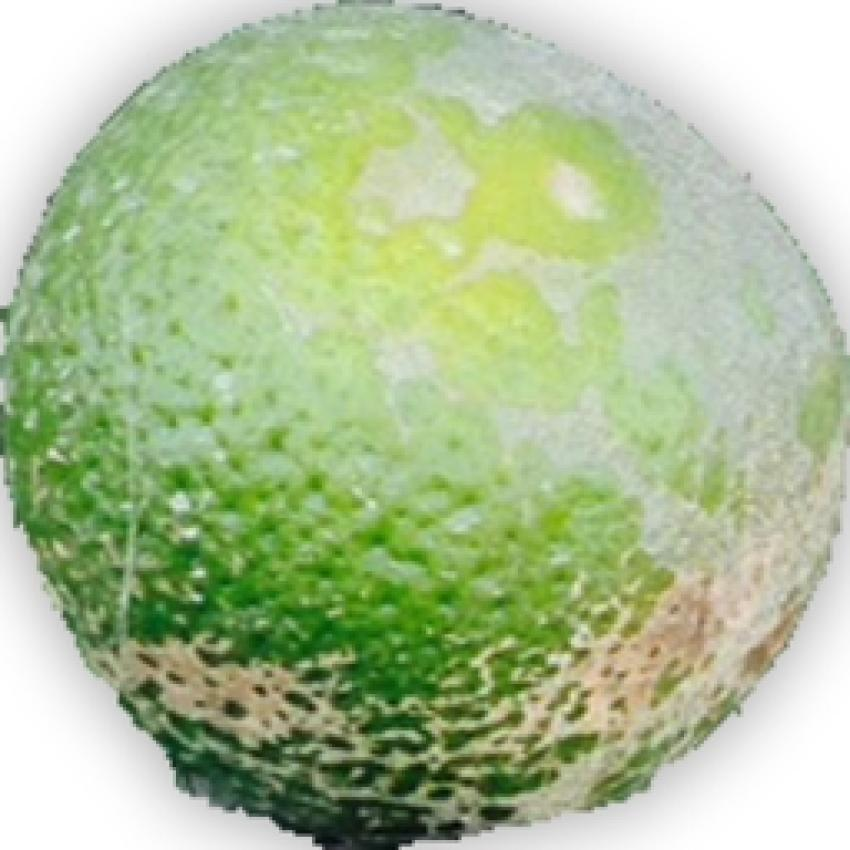Mal estado: (5, 0, 838, 847)
